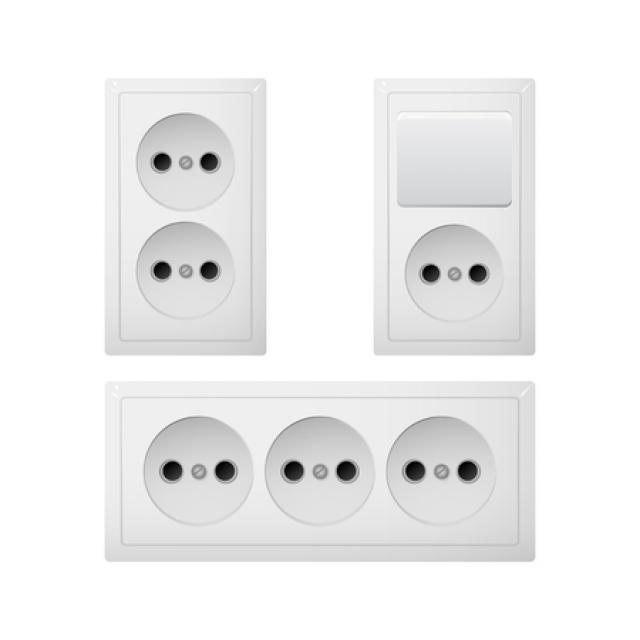typeb: (89, 374, 552, 586), (74, 72, 307, 368), (356, 66, 548, 364)
